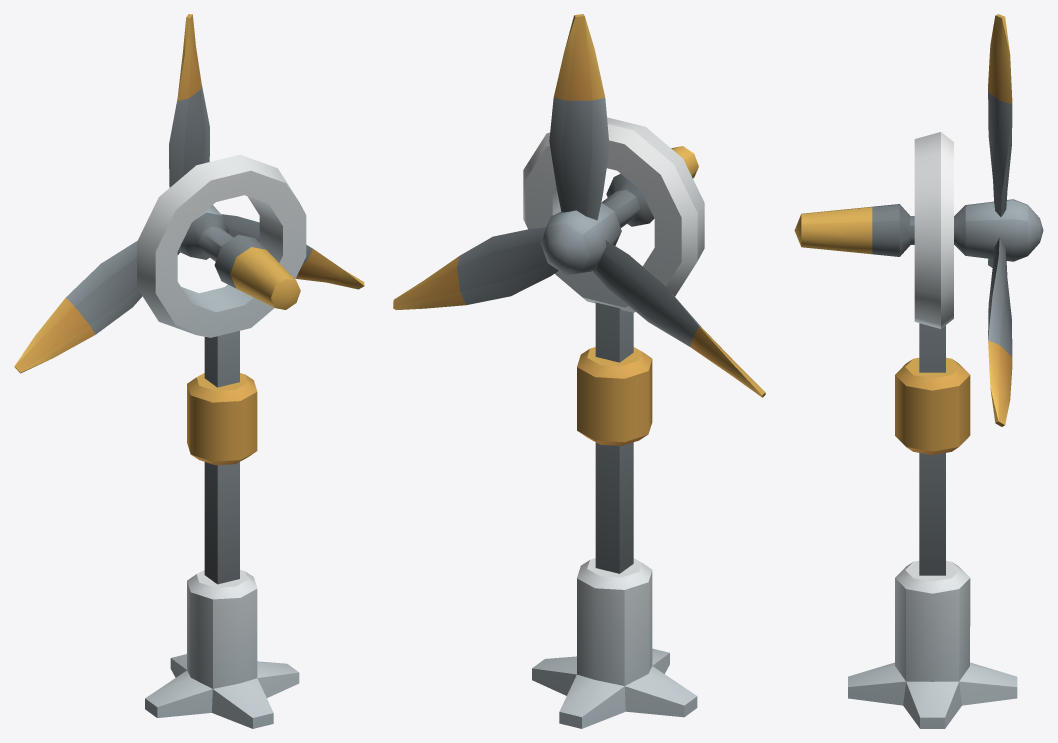
File: turbine-tall.glb
The picture shows the model from 3 angles, left to right: view 1: azimuth 30°, elevation 25°; view 2: azimuth 150°, elevation 25°; view 3: azimuth 270°, elevation 25°; orthographic projection. The views are drawn at different scales.
Parts seen in each view (by area): view 1: windturbine_tall.001, windturbine_tall.002; view 2: windturbine_tall.001, windturbine_tall.002; view 3: windturbine_tall.001, windturbine_tall.002.
Boxes of the visible parts, bbox=[...] form: windturbine_tall.001: bbox=[137, 154, 306, 728]; windturbine_tall.002: bbox=[14, 14, 364, 373]; windturbine_tall.001: bbox=[523, 117, 704, 728]; windturbine_tall.002: bbox=[393, 14, 765, 397]; windturbine_tall.001: bbox=[848, 132, 1017, 728]; windturbine_tall.002: bbox=[794, 14, 1043, 426].
Bounding box in the file's own units: 1.88 × 3.39 × 1.13.
Materials: 1 (1 with a texture image).
